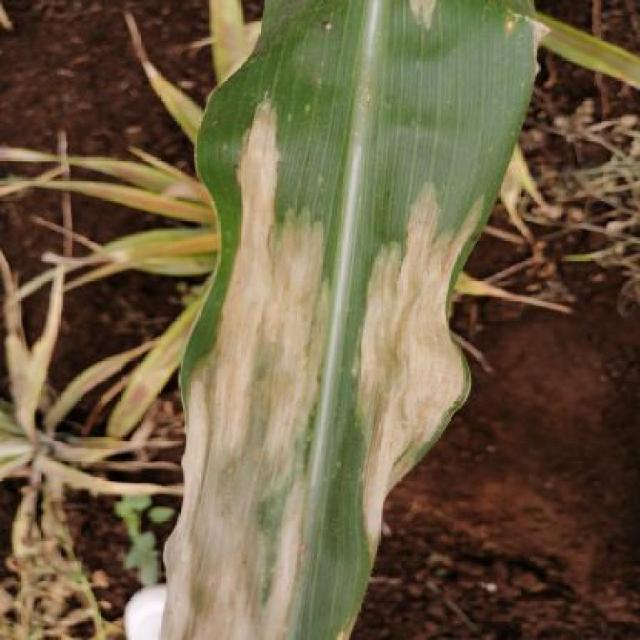Corn_Leaf_Blight: (157, 0, 534, 640)
